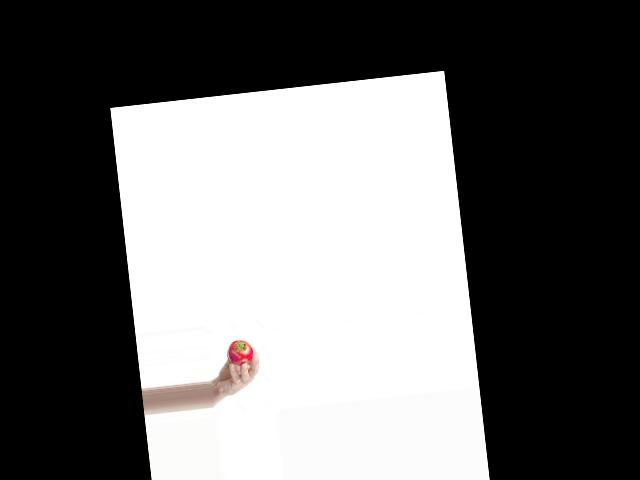tomato: (226, 338, 254, 366)
